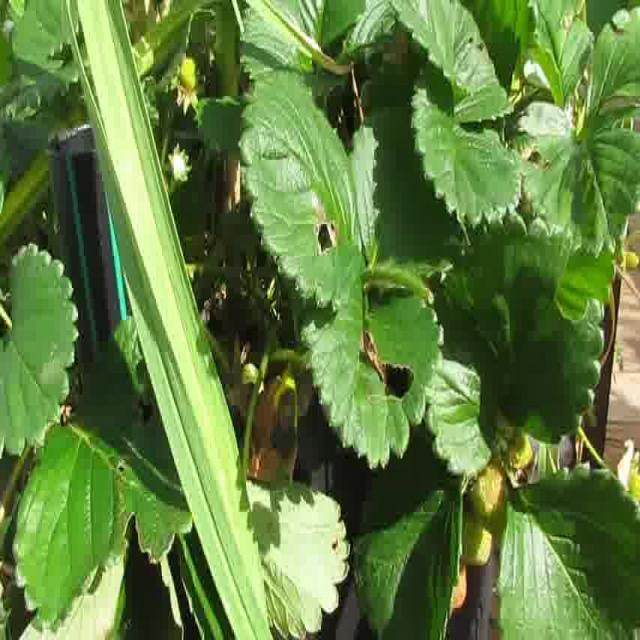Fruta sana: (468, 457, 510, 552), (457, 492, 494, 568), (501, 429, 537, 472), (444, 550, 468, 613)
